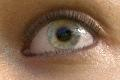eye: (47, 19, 81, 50)
